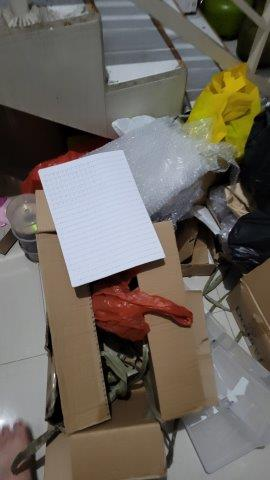kertas: (36, 147, 170, 287)
